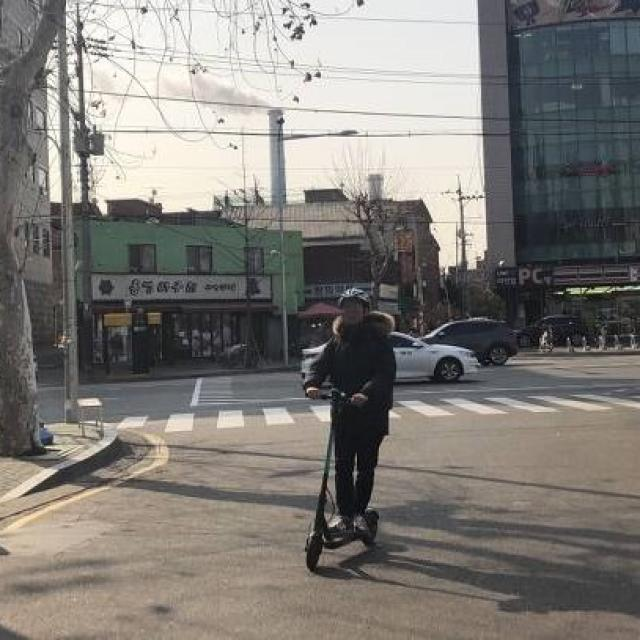helmet: (285, 286, 403, 576)
